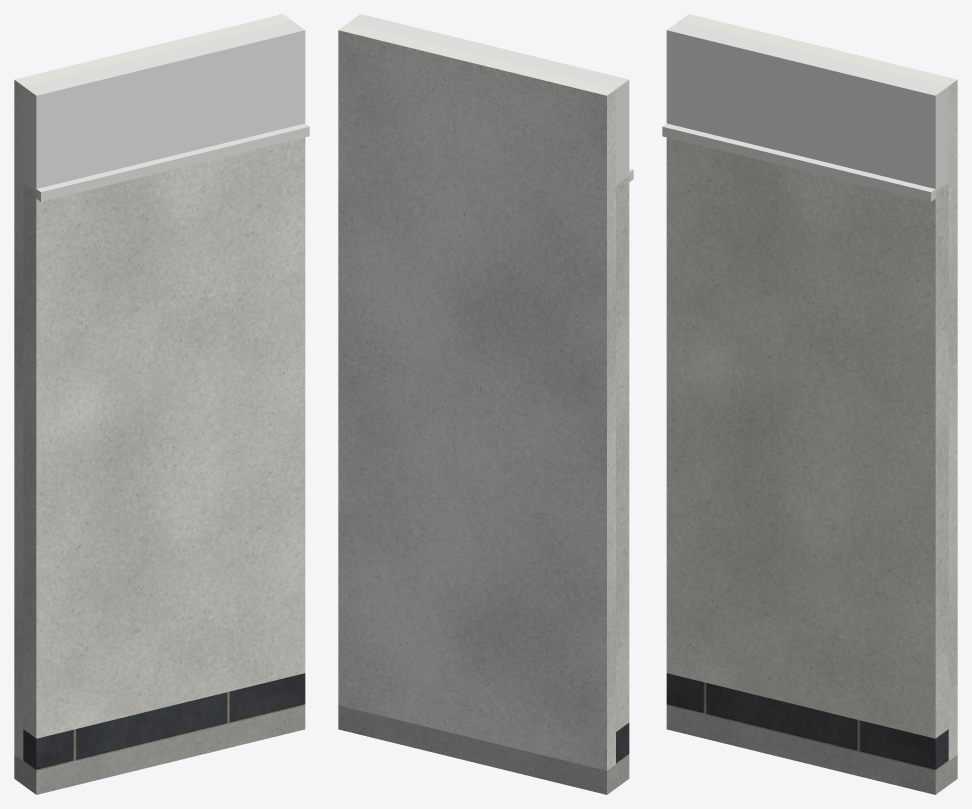
Rendered from s_plain_l.glb.
The picture shows the model from 3 angles, left to right: view 1: azimuth 30°, elevation 25°; view 2: azimuth 150°, elevation 25°; view 3: azimuth 330°, elevation 25°; orthographic projection.
Visible parts, largest first — view 1: s_plain_l_render, s_plain_l_panel_w, s_plain_l_block_d, s_plain_l_plaster, s_plain_l_concrete; view 2: s_plain_l_plaster, s_plain_l_render, s_plain_l_concrete, s_plain_l_panel_w; view 3: s_plain_l_render, s_plain_l_panel_w, s_plain_l_block_d, s_plain_l_plaster, s_plain_l_concrete.
Boxes of the visible parts, x1=… form: s_plain_l_render: x1=23, y1=137, x2=305, y2=738; s_plain_l_panel_w: x1=23, y1=20, x2=309, y2=201; s_plain_l_block_d: x1=23, y1=673, x2=305, y2=770; s_plain_l_plaster: x1=14, y1=14, x2=291, y2=760; s_plain_l_concrete: x1=14, y1=705, x2=305, y2=794; s_plain_l_plaster: x1=338, y1=23, x2=615, y2=770; s_plain_l_render: x1=616, y1=176, x2=629, y2=731; s_plain_l_concrete: x1=338, y1=705, x2=629, y2=794; s_plain_l_panel_w: x1=347, y1=14, x2=633, y2=185; s_plain_l_render: x1=666, y1=137, x2=948, y2=738; s_plain_l_panel_w: x1=662, y1=20, x2=948, y2=201; s_plain_l_block_d: x1=666, y1=673, x2=948, y2=770; s_plain_l_plaster: x1=680, y1=14, x2=957, y2=760; s_plain_l_concrete: x1=666, y1=705, x2=957, y2=794.
Bounding box in the file's own units: 1.75 × 4.35 × 0.3.
5 materials, 4 textured.
